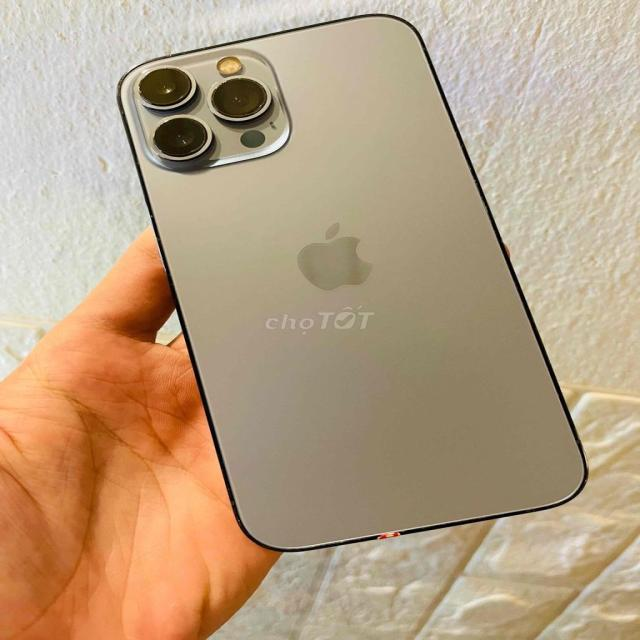gen_12_13: (107, 11, 588, 562)
